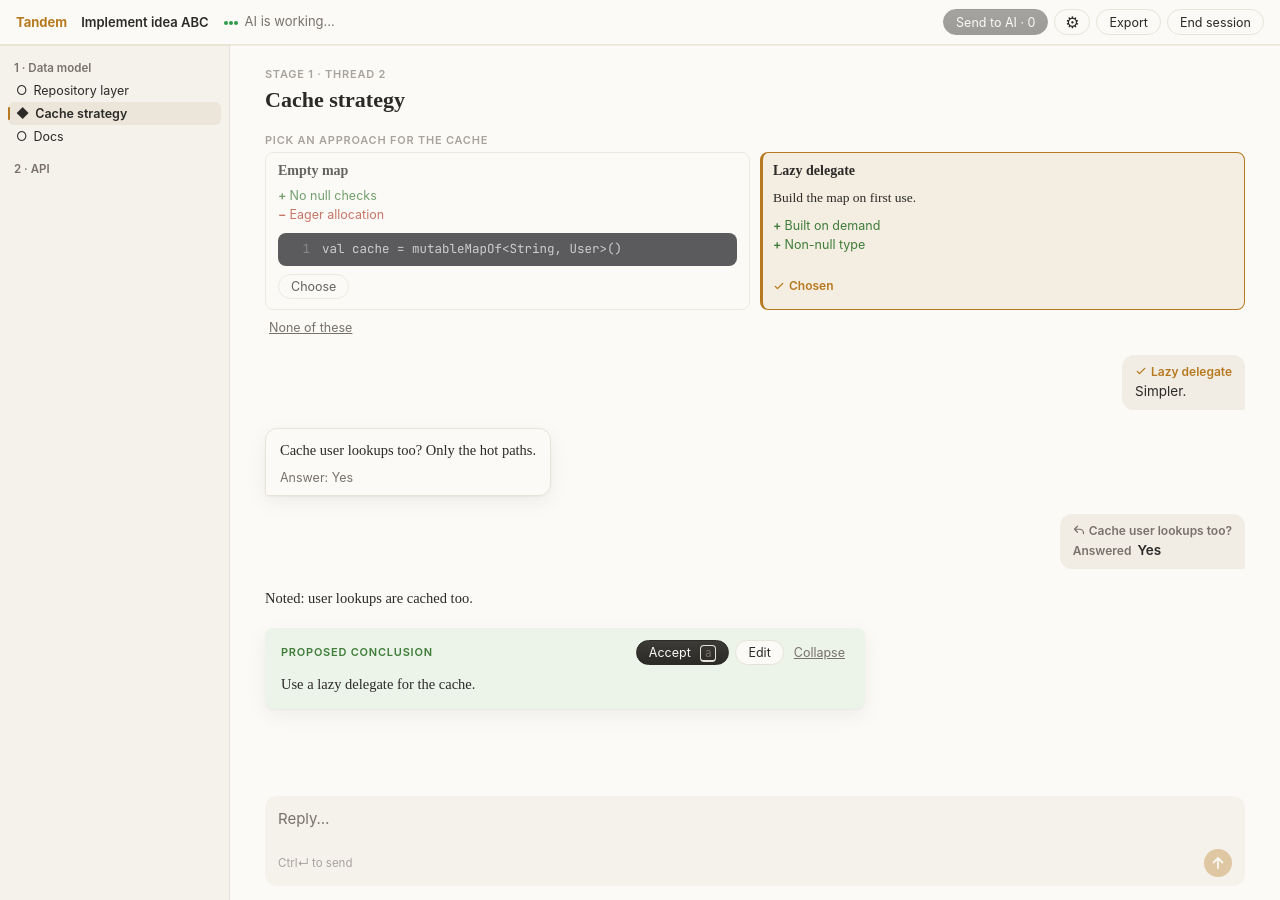
Test case: SessionPage › advances to the next open thread once accepting a proposed conclusion succeeds (F12b-4)
Expected: the heading "Cache strategy" is shown, x1=265 y1=87 x2=405 y2=112
Click the button "Accept a" at (683, 653), box x1=636 y1=640 x2=729 y2=665
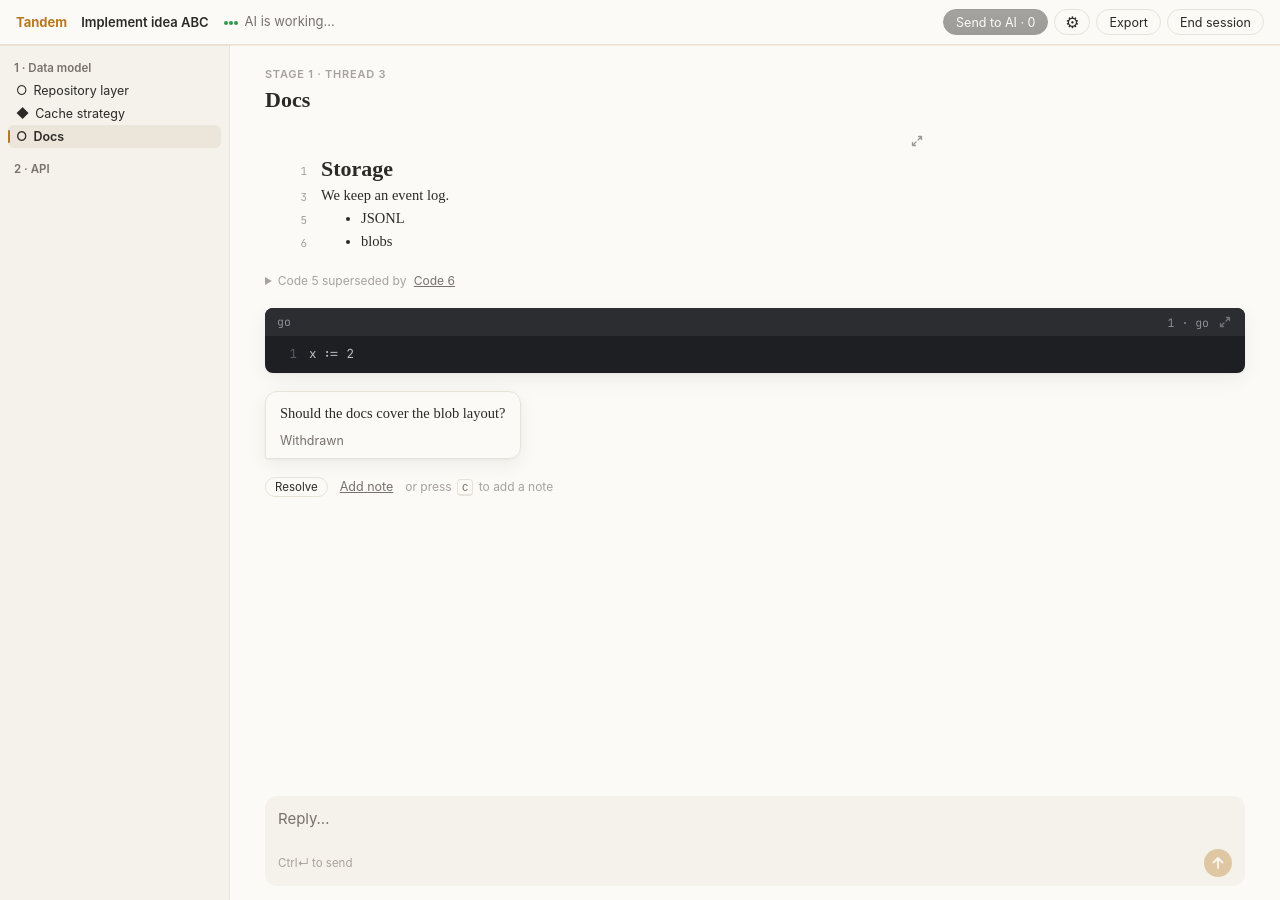
Expected: the heading "Docs" is shown, x1=265 y1=87 x2=310 y2=112
